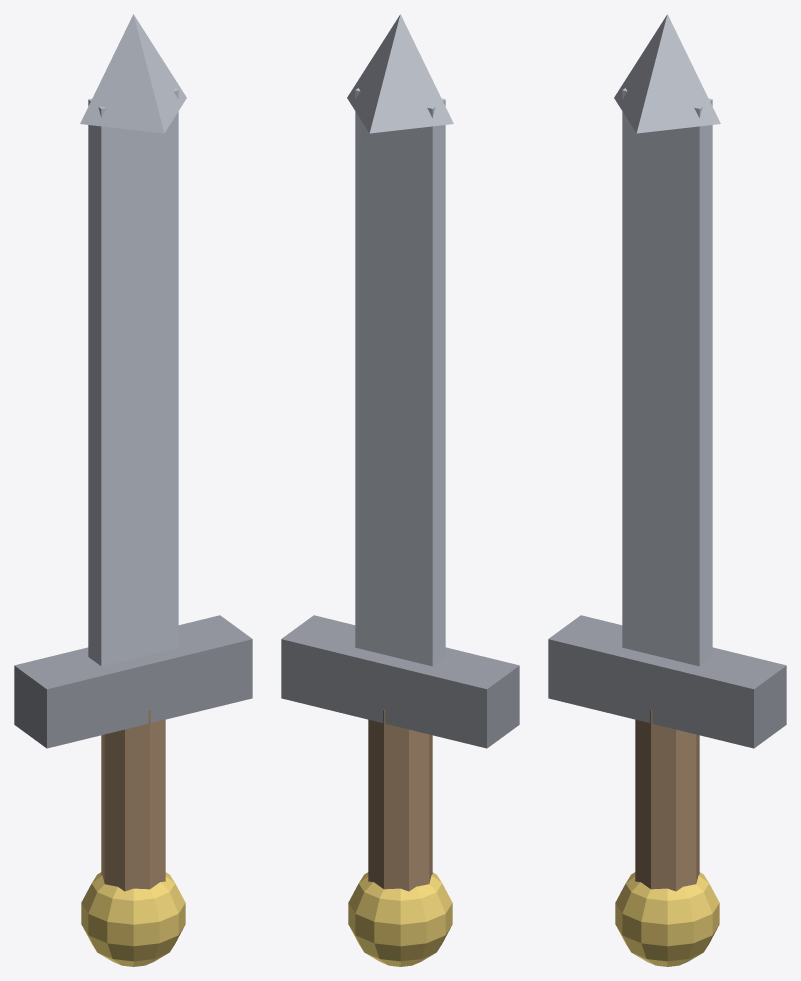
The model's file is sword_basic.glb.
3 views of the same model, side by side, from view 1: azimuth 30°, elevation 25°; view 2: azimuth 150°, elevation 25°; view 3: azimuth 330°, elevation 25° (orthographic).
Visible parts, largest first — view 1: sword_basic_03, sword_basic_02, sword_basic_00, sword_basic_01, sword_basic_04; view 2: sword_basic_03, sword_basic_02, sword_basic_00, sword_basic_01, sword_basic_04; view 3: sword_basic_03, sword_basic_02, sword_basic_00, sword_basic_01, sword_basic_04.
Boxes of the visible parts, x1=… form: sword_basic_03: x1=88, y1=88, x2=178, y2=666; sword_basic_02: x1=14, y1=615, x2=252, y2=748; sword_basic_00: x1=101, y1=710, x2=165, y2=891; sword_basic_01: x1=81, y1=872, x2=185, y2=966; sword_basic_04: x1=80, y1=14, x2=186, y2=133; sword_basic_03: x1=355, y1=88, x2=445, y2=666; sword_basic_02: x1=281, y1=615, x2=519, y2=748; sword_basic_00: x1=368, y1=710, x2=432, y2=891; sword_basic_01: x1=348, y1=872, x2=452, y2=966; sword_basic_04: x1=347, y1=14, x2=453, y2=133; sword_basic_03: x1=622, y1=88, x2=712, y2=666; sword_basic_02: x1=548, y1=615, x2=786, y2=748; sword_basic_00: x1=635, y1=710, x2=699, y2=891; sword_basic_01: x1=615, y1=872, x2=719, y2=966; sword_basic_04: x1=614, y1=14, x2=720, y2=133.
Bounding box in the file's own units: 0.2 × 0.88 × 0.104.
